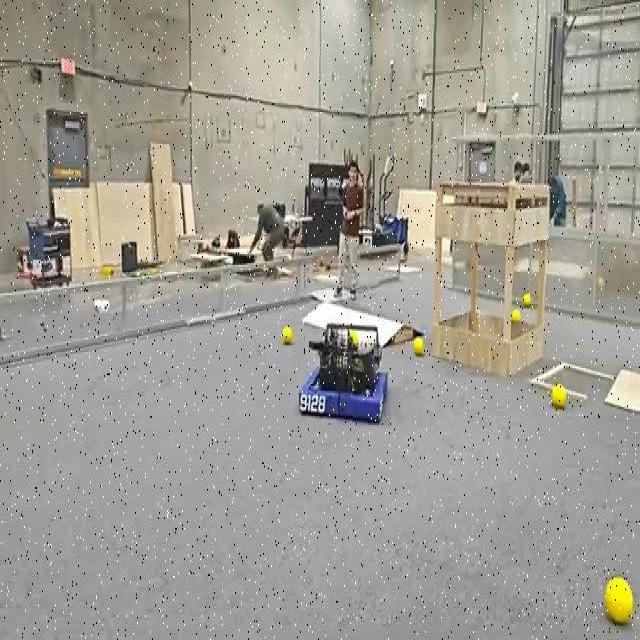Fuel: (604, 576, 633, 623), (604, 576, 632, 624), (551, 384, 567, 409), (551, 384, 566, 407), (413, 336, 424, 356), (413, 336, 423, 356), (281, 325, 292, 343), (282, 325, 292, 343), (349, 329, 359, 346), (522, 292, 532, 307), (511, 310, 521, 324), (522, 294, 532, 308), (511, 310, 521, 322), (597, 276, 605, 291), (550, 388, 556, 402)
